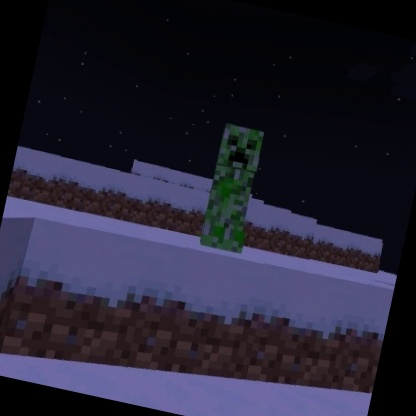creeper: (195, 118, 271, 258)
